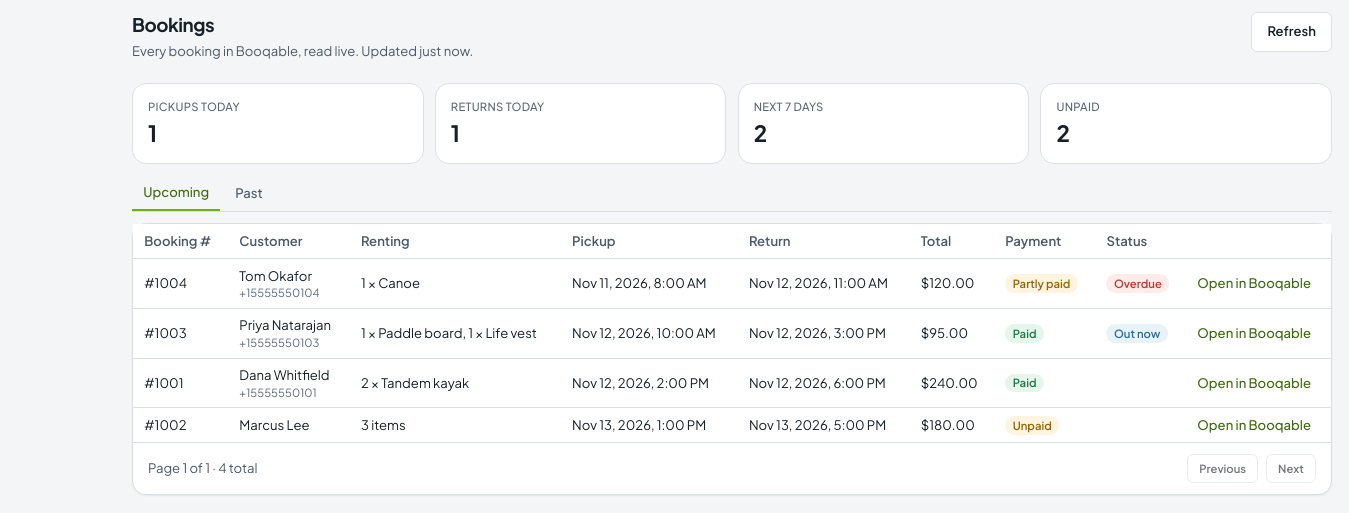
Test: BookingsPage › switches to Past and records the view in the URL
Expected: the text "Dana Whitfield" is shown, [239,366,330,383]
Click the tab "Past": [249, 193] box [224,175,274,211]
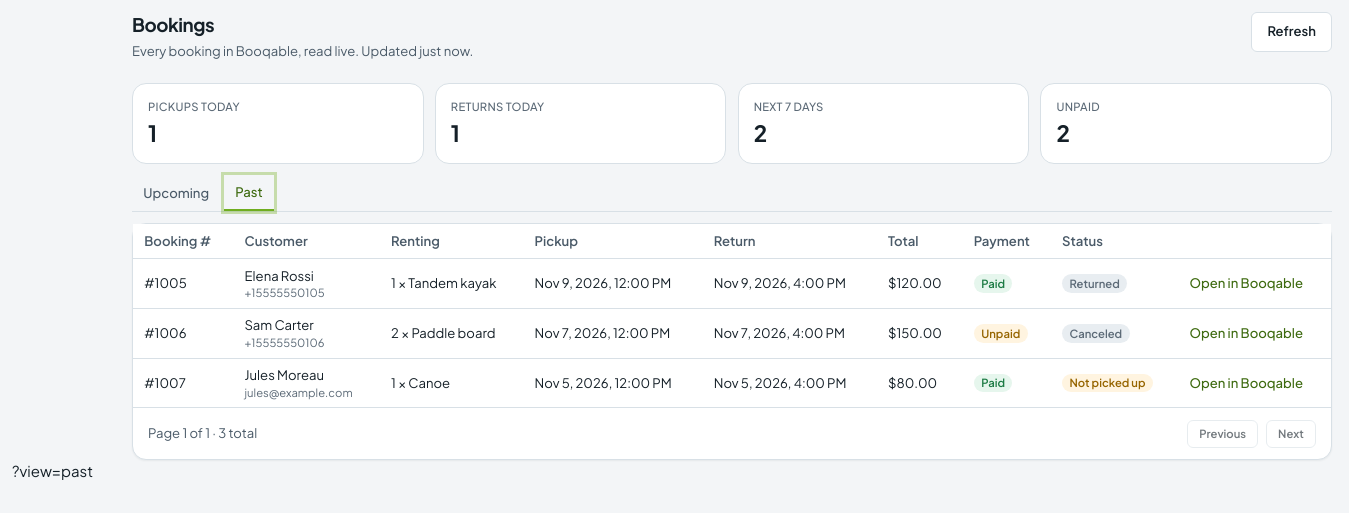
Now the text "Returned" is shown, box [1062,274,1127,293]
Now the text "Canceled" is shown, box [1062,324,1130,343]
Now the text "Not picked up" is shown, box [1062,374,1153,392]
